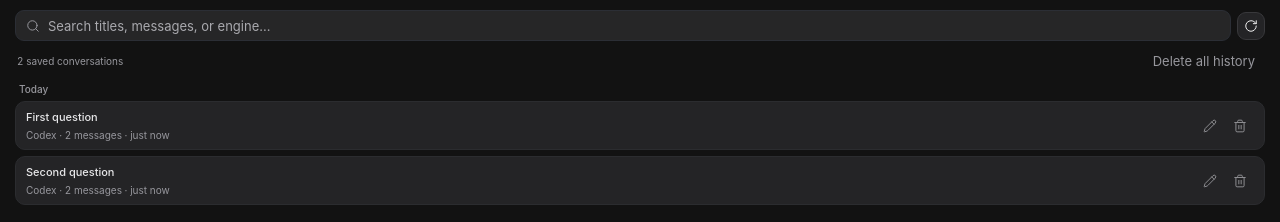
Test: Agent history operations through the rendered list › cancelling a delete keeps the conversation
The image size is (1280, 222).
Click the 1st button named "Delete First question": (1240, 126) x1=1226 y1=112 x2=1254 y2=140
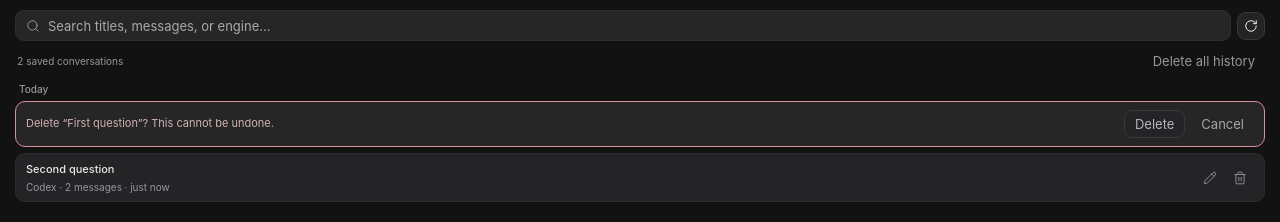
Click the button "Cancel": (1223, 124) x1=1191 y1=110 x2=1254 y2=138
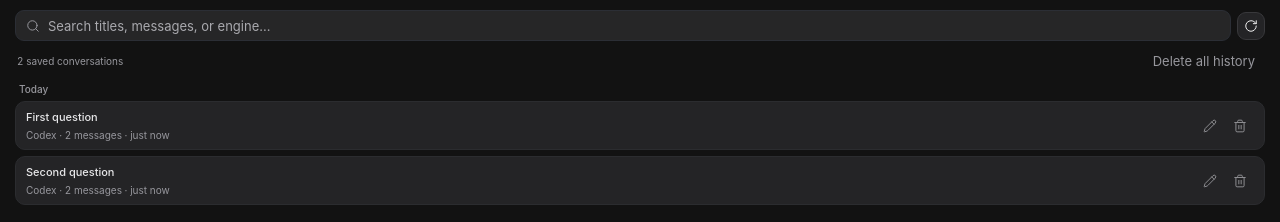
Now the 1st button named "Delete First question" is shown, box x1=1226 y1=112 x2=1254 y2=140
